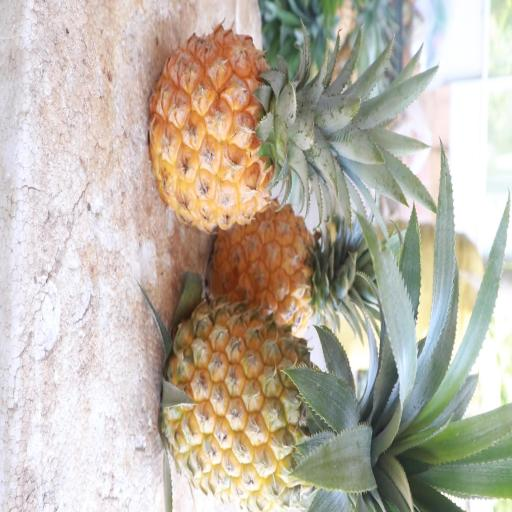Pineapple - v8 v1: (157, 288, 387, 512), (146, 16, 356, 233), (207, 192, 380, 343)
